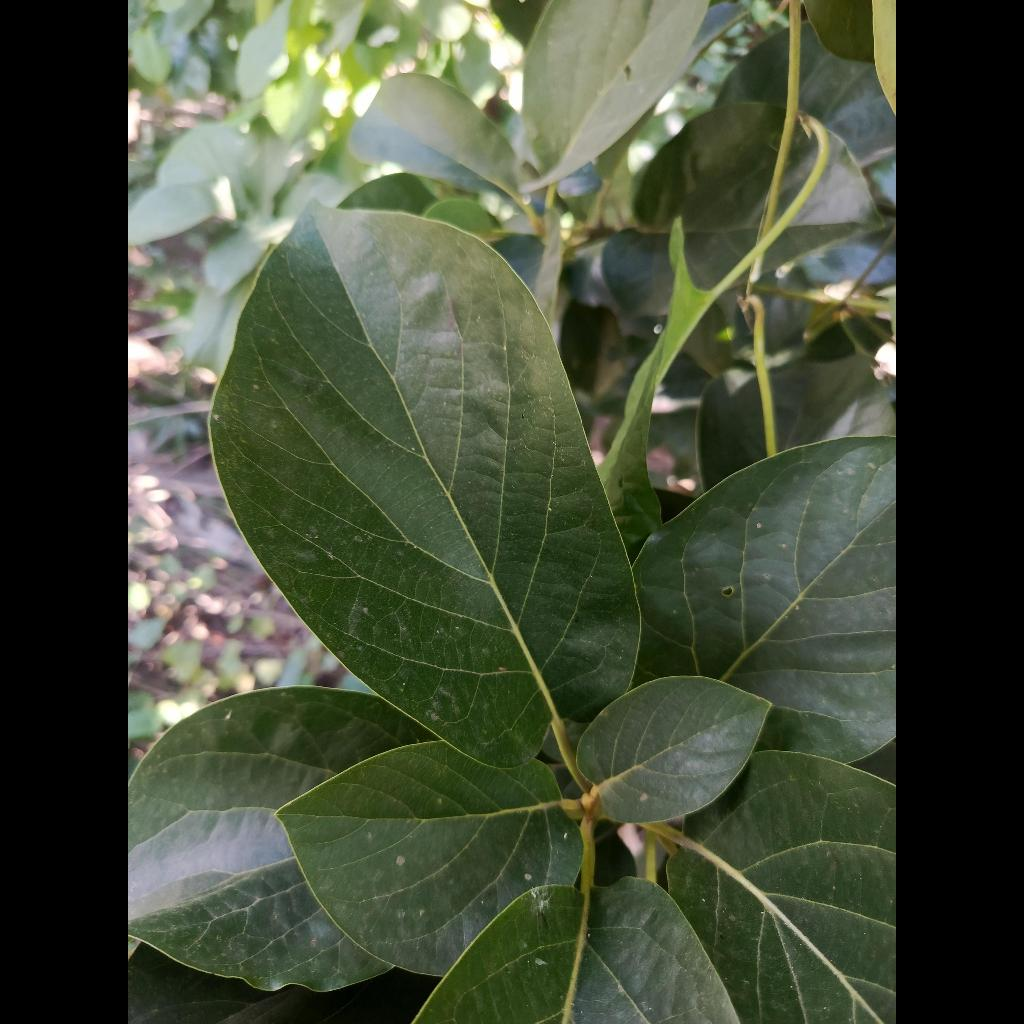Healthy: (211, 204, 639, 766), (278, 741, 581, 974), (577, 676, 769, 822)
